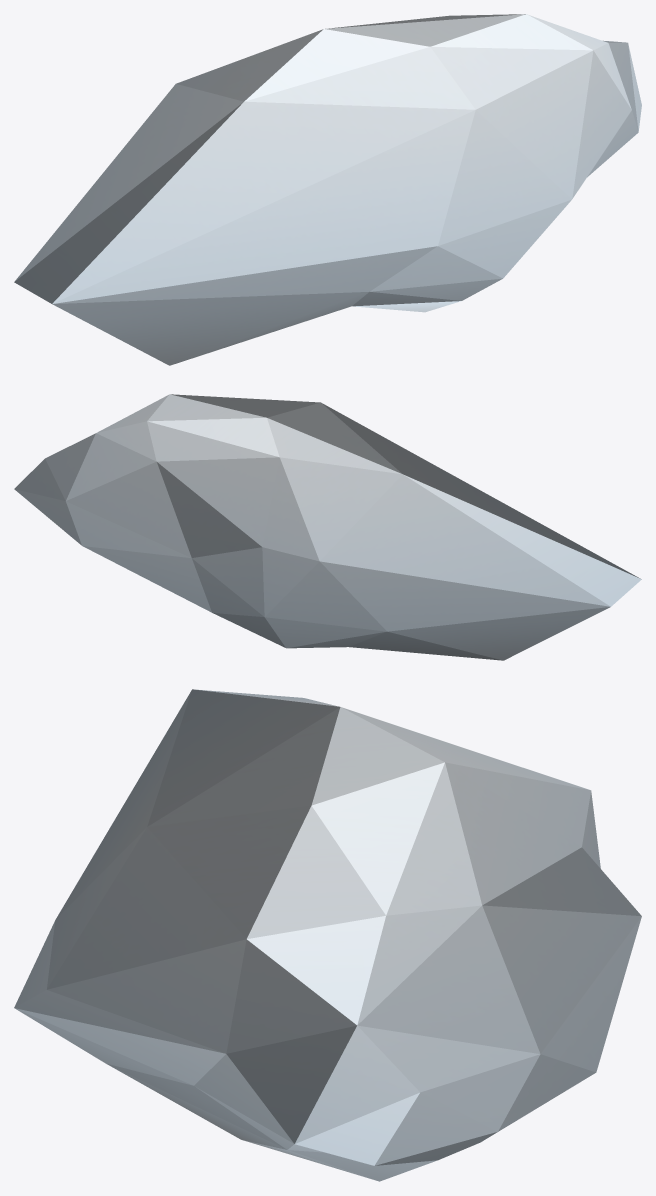
File: Snowy_Cloud_001.FBX
3 views of the same model, one above another, from view 1: azimuth 30°, elevation 25°; view 2: azimuth 150°, elevation 25°; view 3: azimuth 270°, elevation 25° (orthographic). The views are drawn at different scales.
Parts seen in each view (by area): view 1: Snowy_Cloud_001; view 2: Snowy_Cloud_001; view 3: Snowy_Cloud_001.
Boxes of the visible parts, left/top/right/bottom form: Snowy_Cloud_001: left=14, top=14, right=641, bottom=365; Snowy_Cloud_001: left=14, top=394, right=641, bottom=660; Snowy_Cloud_001: left=14, top=689, right=641, bottom=1181.
Size of the model in its own units: 801 by 277 by 445.
Materials: 1 (1 with a texture image).
